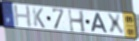7: (52, 8, 66, 31)
A: (90, 12, 109, 34)
H: (67, 8, 88, 35), (13, 5, 33, 28)
K: (31, 7, 46, 29)
X: (106, 13, 126, 36)
